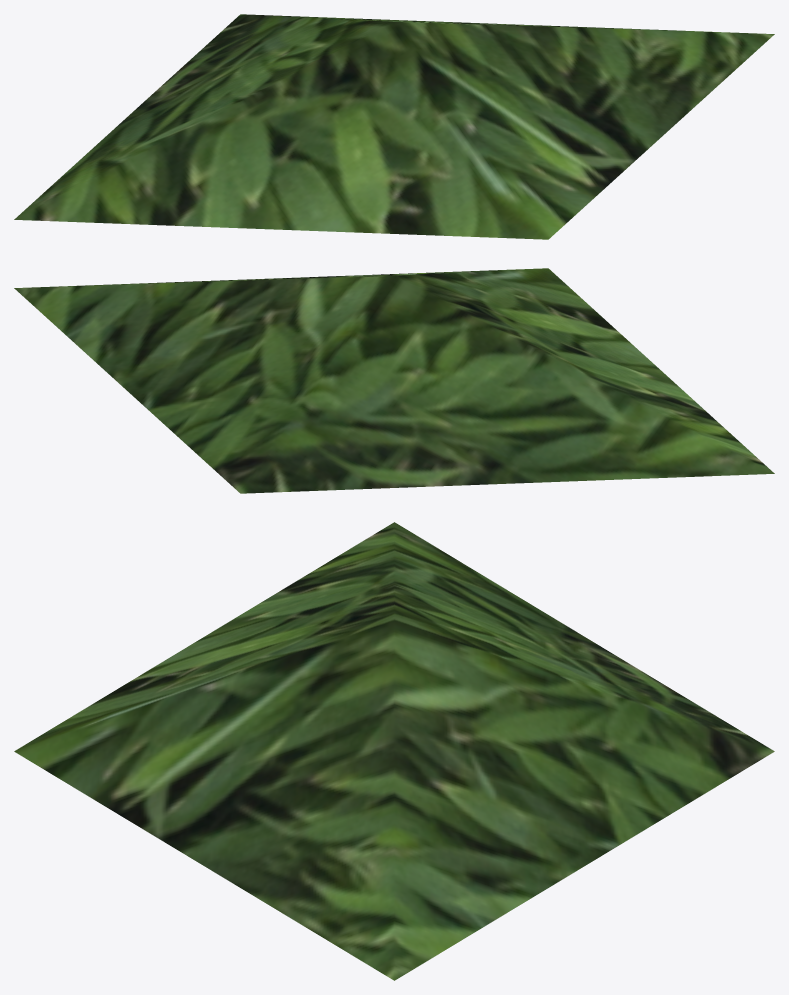
The model's file is bushd2.FBX.
3 renders of one model, top to bottom at view 1: azimuth 30°, elevation 25°; view 2: azimuth 150°, elevation 25°; view 3: azimuth 270°, elevation 25°, orthographic. The views are drawn at different scales.
Visible parts, largest first — view 1: bushd2; view 2: bushd2; view 3: bushd2.
Part boxes in pixels (<box>): bushd2: <box>14,14,774,239</box>; bushd2: <box>14,268,774,493</box>; bushd2: <box>14,522,774,980</box>.
Bounding box in the file's own units: 57.32 × 7.56 × 40.18.
